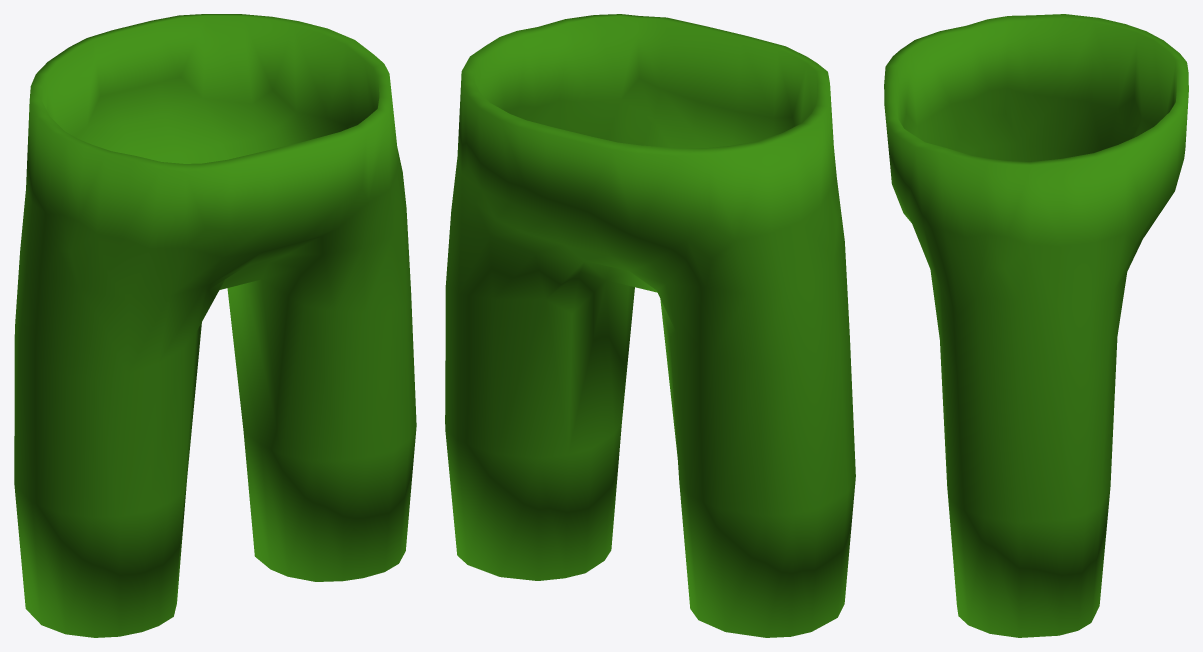
The model's file is Pantalon Rozenn2.fbx.
The picture shows the model from 3 angles, left to right: view 1: azimuth 30°, elevation 25°; view 2: azimuth 150°, elevation 25°; view 3: azimuth 270°, elevation 25°; orthographic projection. The views are drawn at different scales.
Visible parts, largest first — view 1: Pantalon Rozenn; view 2: Pantalon Rozenn; view 3: Pantalon Rozenn.
Part boxes in pixels (x1=…): Pantalon Rozenn: x1=14, y1=14, x2=416, y2=637; Pantalon Rozenn: x1=445, y1=14, x2=855, y2=637; Pantalon Rozenn: x1=884, y1=14, x2=1188, y2=637.
Size of the model in its own units: 218 by 273 by 159.
